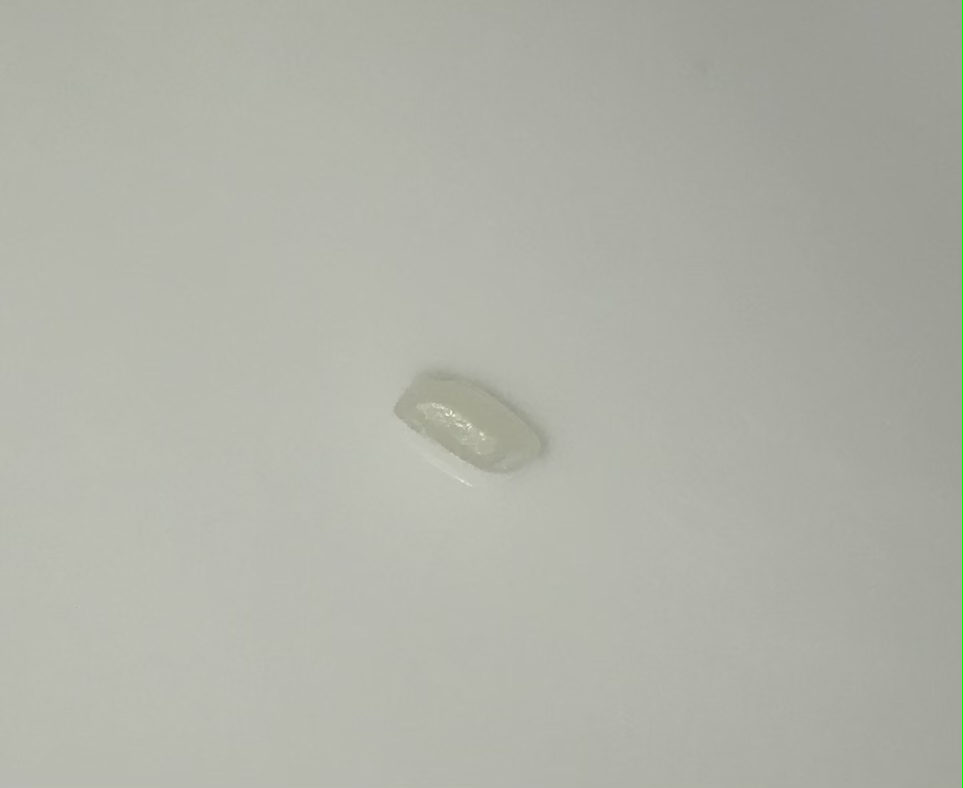Gao Tam: (379, 351, 558, 491)
